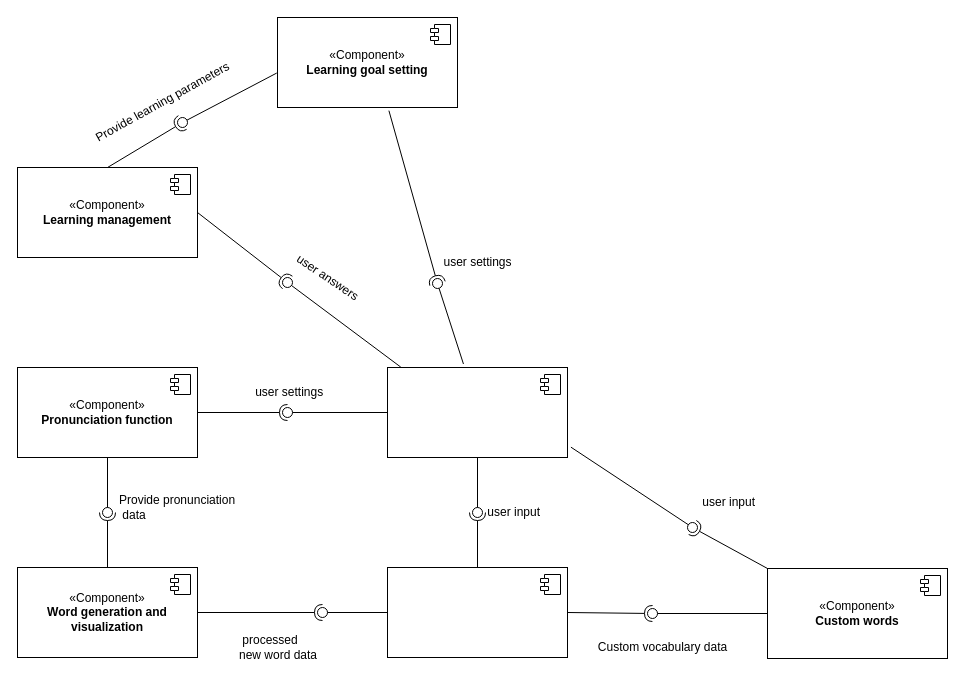
The diagram is 965 pixels wide and 685 high, and some of its shapes have lost their labels. The centre of each missing label's shape, as x and y in pixels:
"«Component» New word management" belongs at point 477,612.
"«Component» User interface" belongs at point 477,412.
